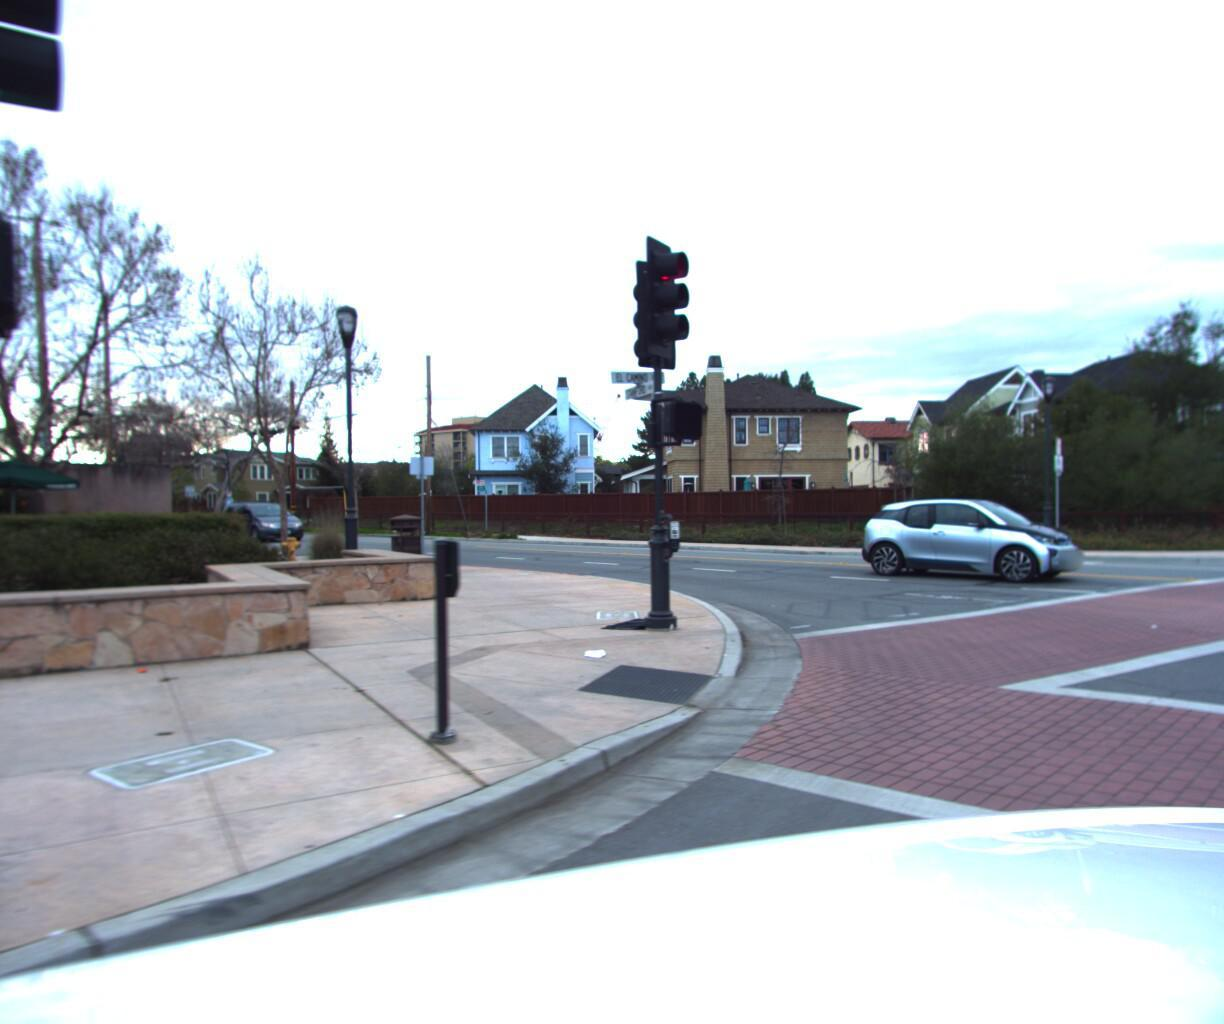car: (856, 490, 1095, 586), (208, 499, 292, 538)
